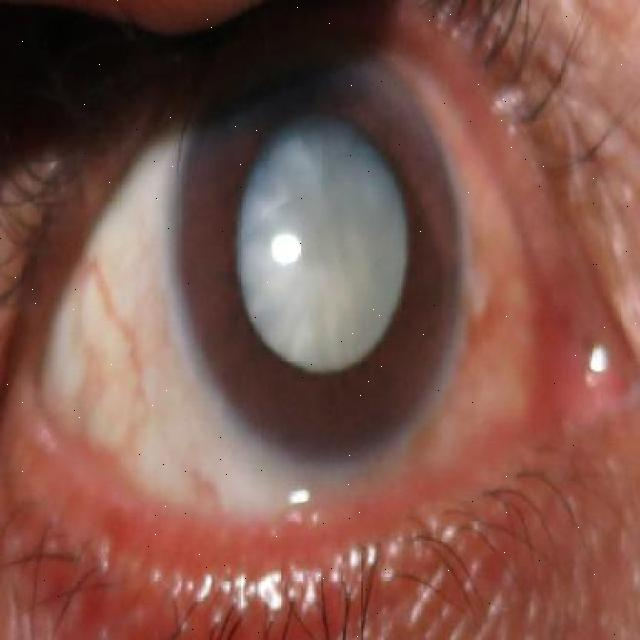Cataract: (164, 54, 464, 462)
